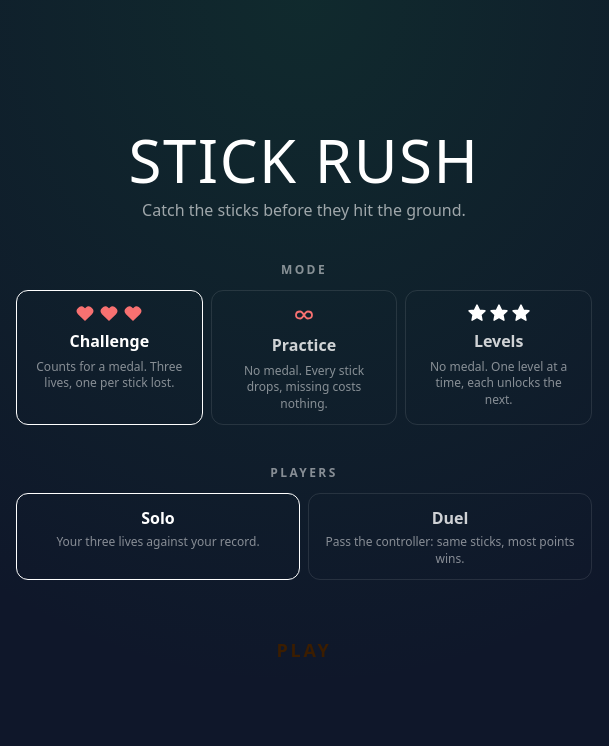
Test case: the website menu opens on the challenge › with the challenge or the levels there is nothing folded: not even the button
The image size is (609, 746).
Click the button "Levels No medal. One level at a time, each unlocks the next." at [499, 358], box top-left (405, 290), bottom-right (592, 425)
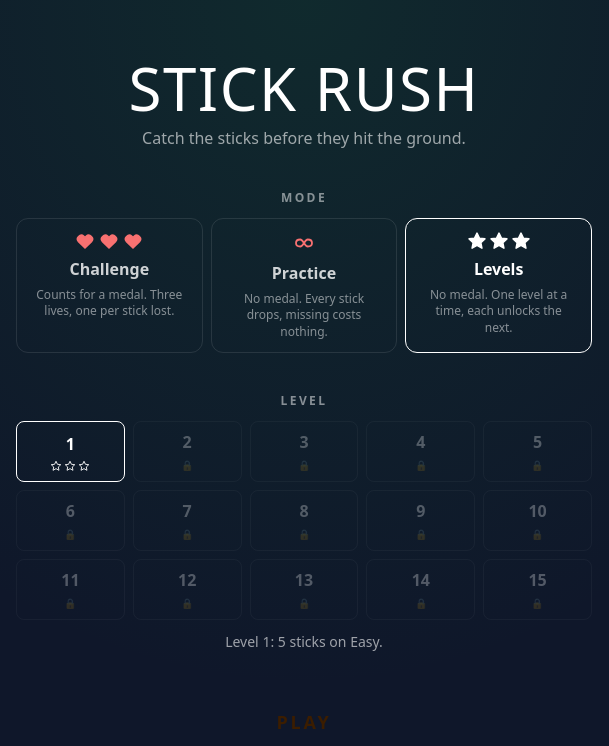
Now the heading "Level" is shown, box top-left (281, 392), bottom-right (327, 409)
